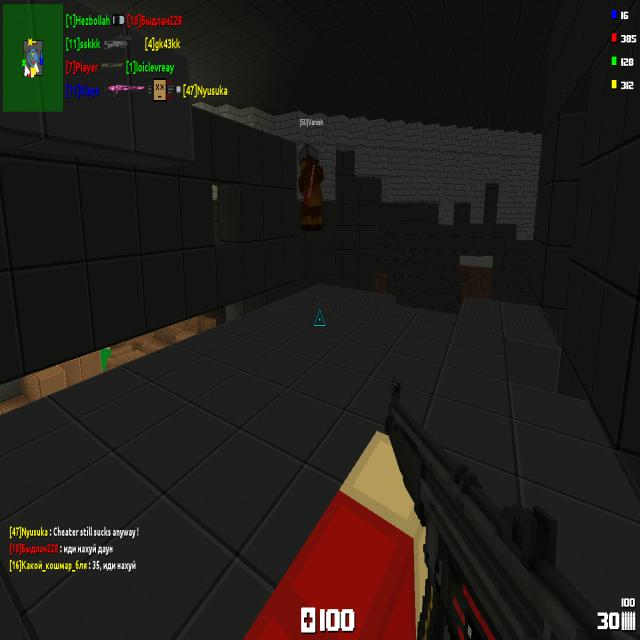enemy: (100, 343, 113, 372)
